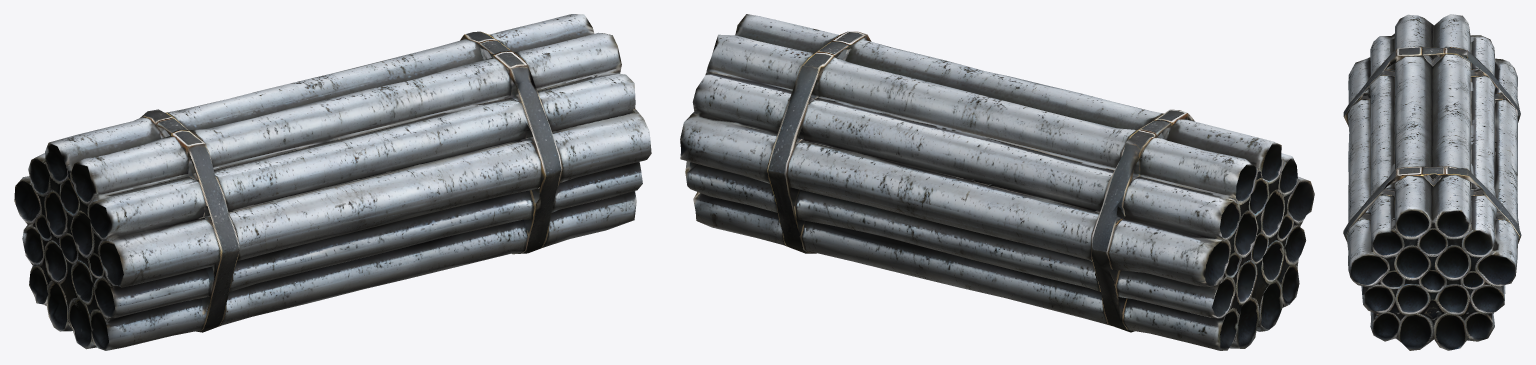
Rendered from scrap_Scaffolding.fbx.
The picture shows the model from 3 angles, left to right: view 1: azimuth 30°, elevation 25°; view 2: azimuth 150°, elevation 25°; view 3: azimuth 270°, elevation 25°; orthographic projection. The views are drawn at different scales.
Parts seen in each view (by area): view 1: input; view 2: input; view 3: input.
Part boxes in pixels (x1,y1,x2,y2): input: [14, 14, 651, 350]; input: [680, 14, 1314, 350]; input: [1343, 14, 1521, 350].
Bounding box in the file's own units: 99.61 × 34.4 × 38.13.
1 material, 1 textured.
